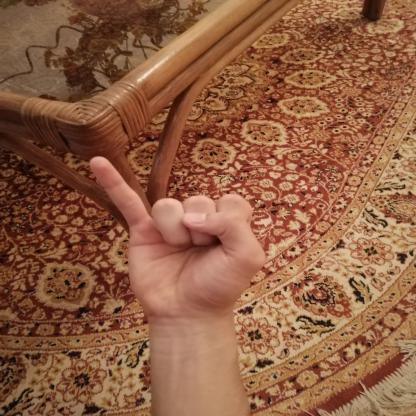MEEM: (68, 148, 280, 328)
